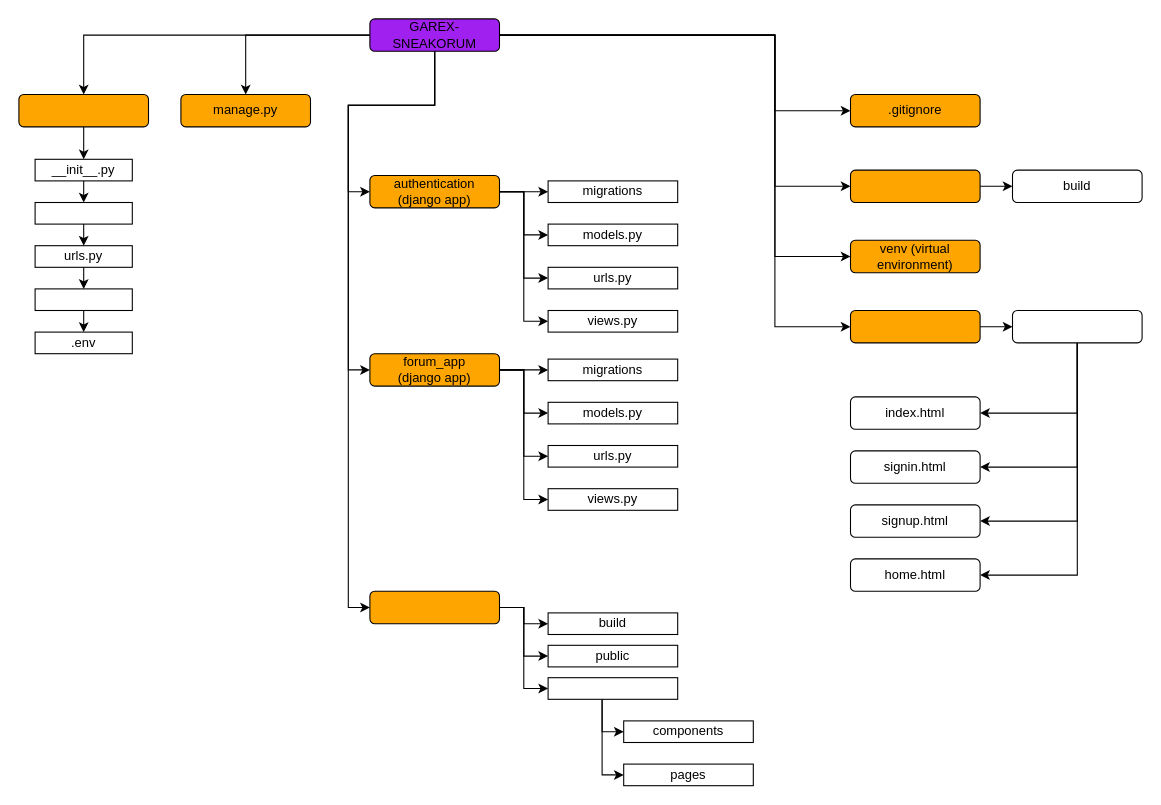
Some shapes in this 1161 by 805 pixel diagram are drawn without their labels. The shapes that lost their labels are listed below. From the top down, each one's centre as x and y in pixels, then its label:
At point (83, 110): "Django Project : GFG".
At point (914, 185): "newstatic".
At point (83, 212): "settings.py".
At point (83, 299): "wsgi.py".
At point (914, 326): "templates".
At point (1076, 326): "authentication".
At point (434, 607): "forum-react-app (react app)".
At point (612, 688): "src".
